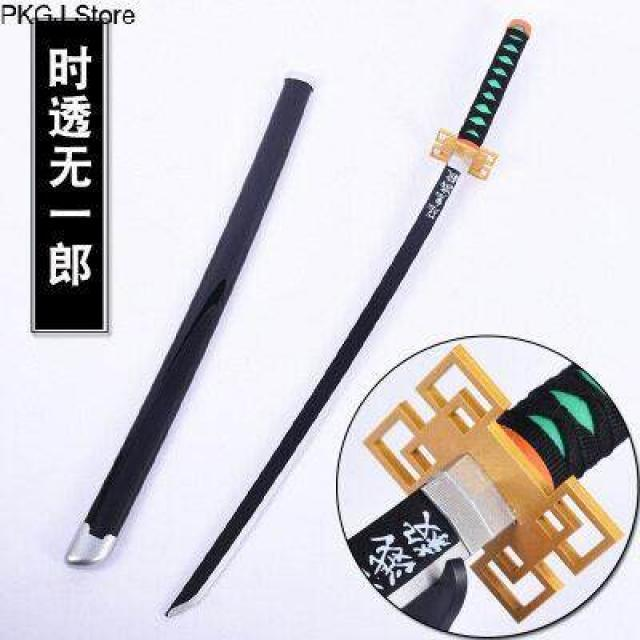long sword: (169, 9, 525, 616)
